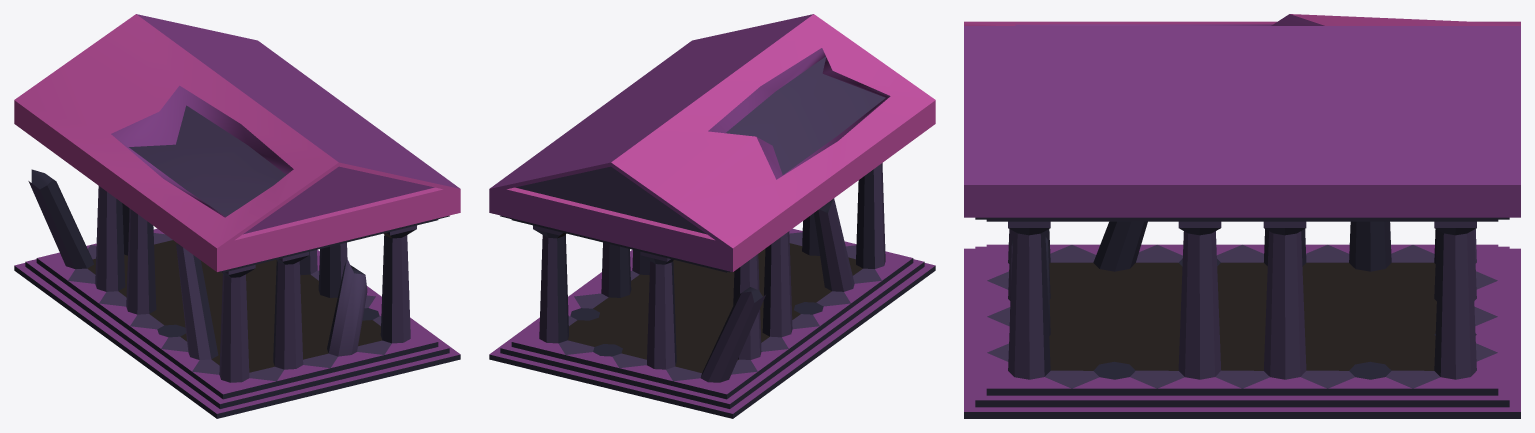
Rendered from Haunted Temple.fbx.
3 renders of one model, left to right at view 1: azimuth 30°, elevation 25°; view 2: azimuth 150°, elevation 25°; view 3: azimuth 270°, elevation 25°, orthographic. The views are drawn at different scales.
Visible parts, largest first — view 1: Regular Plane9_default; view 2: Regular Plane9_default; view 3: Regular Plane9_default.
Boxes of the visible parts, x1=… form: Regular Plane9_default: x1=14, y1=14, x2=460, y2=418; Regular Plane9_default: x1=489, y1=14, x2=935, y2=418; Regular Plane9_default: x1=964, y1=14, x2=1520, y2=418.
Size of the model in its own units: 707 by 604 by 980.
